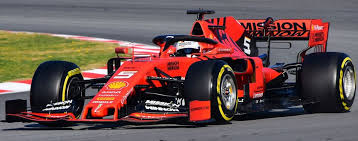FormulaOneCar: (5, 9, 357, 130)
